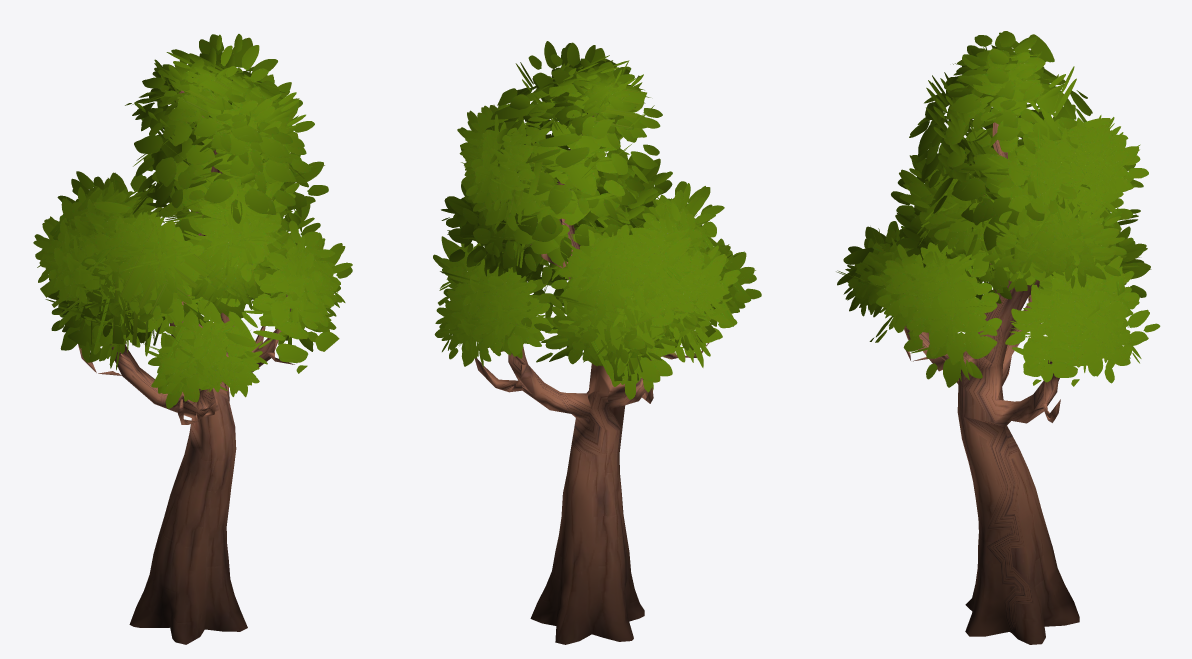
File: tree2.glb
3 renders of one model, left to right at view 1: azimuth 30°, elevation 25°; view 2: azimuth 150°, elevation 25°; view 3: azimuth 270°, elevation 25°, orthographic. The views are drawn at different scales.
Visible parts, largest first — view 1: CommonTree_2; view 2: CommonTree_2; view 3: CommonTree_2.
Boxes of the visible parts, box(x1,y1,x2,y2) form: CommonTree_2: box(33, 34, 352, 644); CommonTree_2: box(433, 41, 761, 644); CommonTree_2: box(836, 31, 1160, 644).
Bounding box in the file's own units: 4.46 × 7.64 × 4.28.
2 materials, 2 textured.
